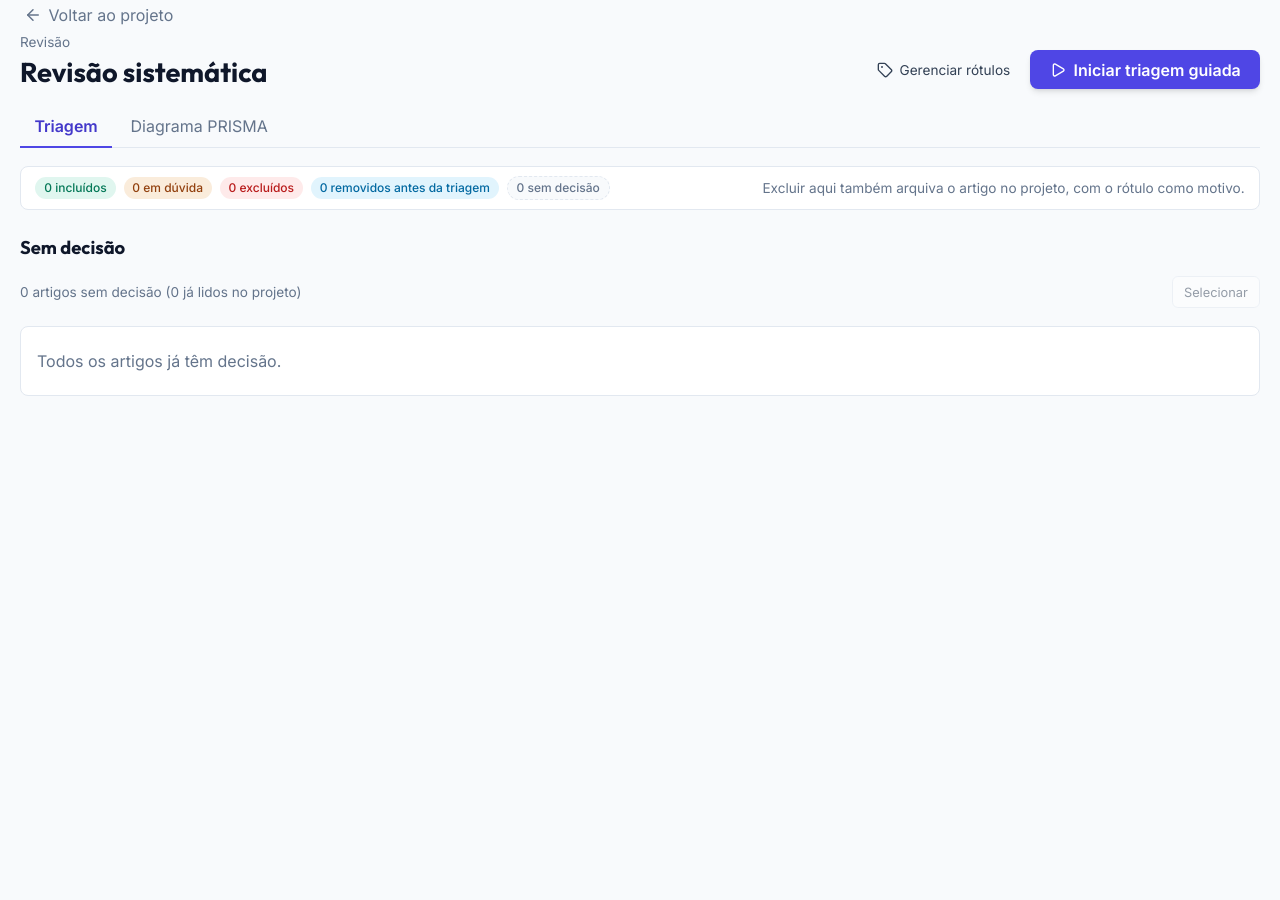
Test: ManageLabelsModal (#49) › creates the PRISMA 2020 labels once
The width and height of the screenshot is (1280, 900).
Click the button "Gerenciar rótulos" at [944, 70], box [865,50,1022,89]
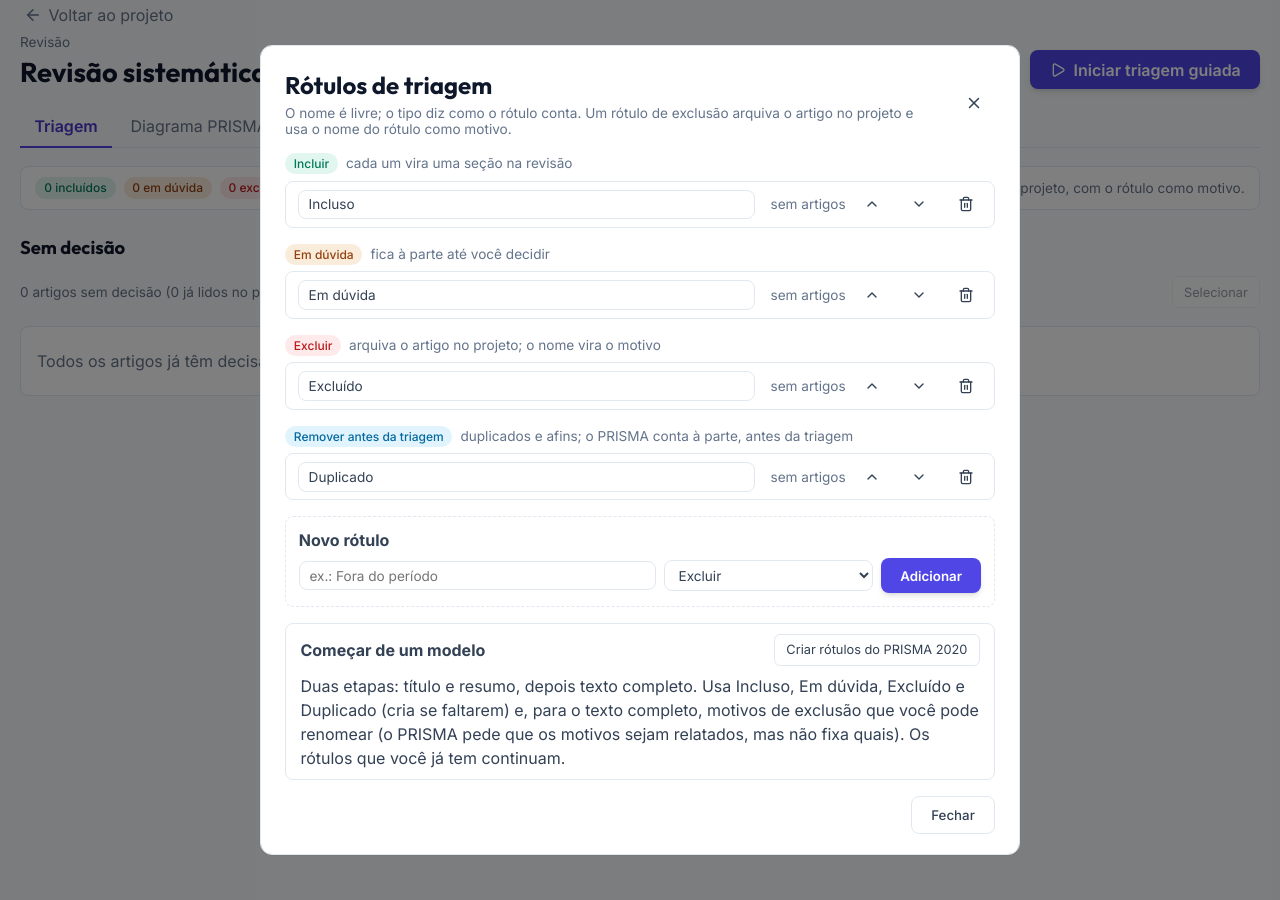
Click the button "Criar rótulos do PRISMA 2020" at [877, 650], box [774,634,980,666]
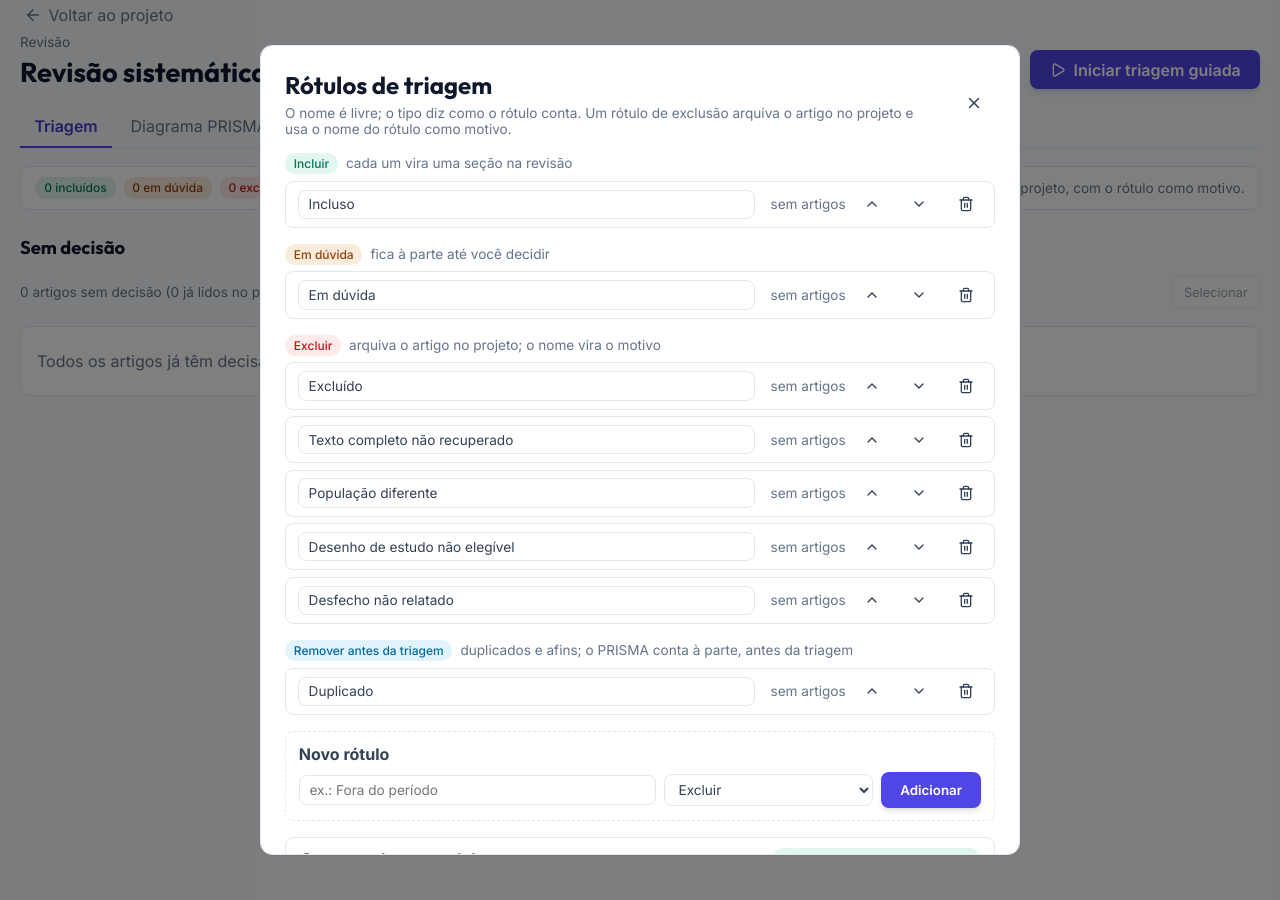
expect the field named "Nome do rótulo Texto completo não recuperado" is shown: met, box [298,425,755,454]
